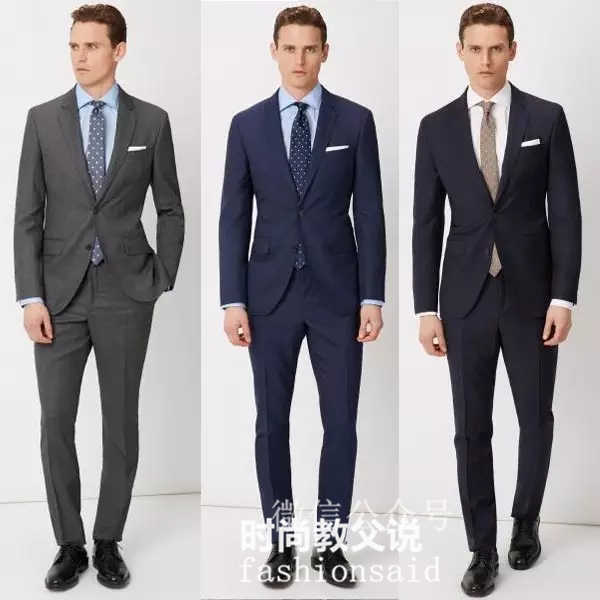F_M_suit jacket: (408, 78, 580, 316), (3, 81, 184, 304), (222, 91, 386, 313)
F_dress pants: (33, 287, 151, 548), (441, 300, 561, 550)
F_tie: (473, 100, 509, 281), (287, 100, 316, 272), (86, 97, 108, 264)
